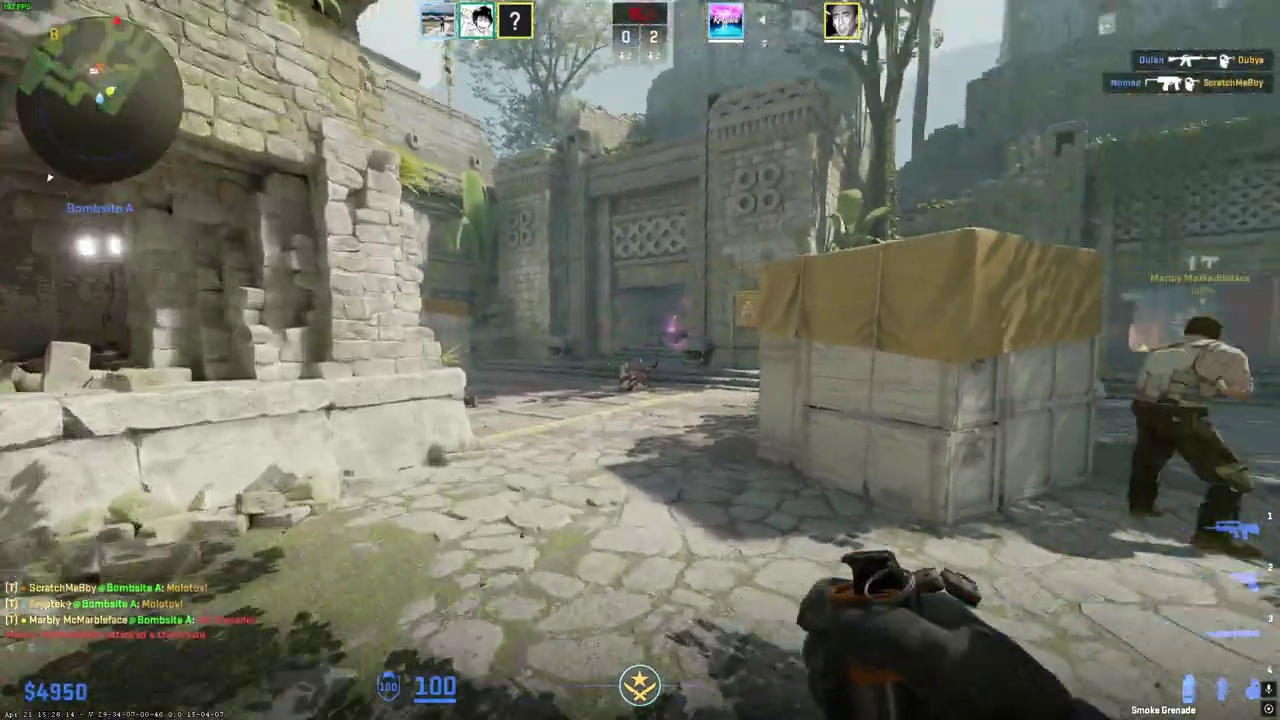Terrorist: (1122, 315, 1265, 545)
